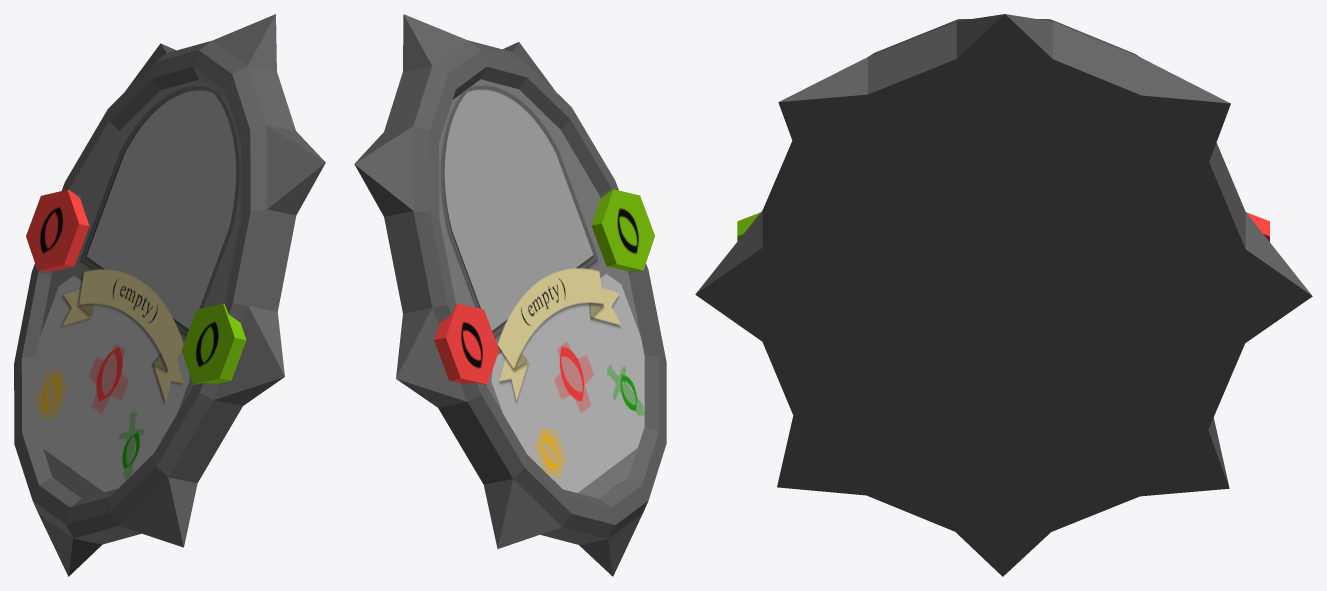
The model's file is minion_frame_1.glb.
3 renders of one model, left to right at view 1: azimuth 30°, elevation 25°; view 2: azimuth 150°, elevation 25°; view 3: azimuth 270°, elevation 25°, orthographic. The views are drawn at different scales.
Parts seen in each view (by area): view 1: frame, life_label, attack_label; view 2: frame, attack_label, life_label; view 3: frame.
Boxes of the visible parts, <box> form: frame: <box>14,14,325,576</box>; life_label: <box>26,189,89,271</box>; attack_label: <box>181,303,246,384</box>; frame: <box>354,14,666,576</box>; attack_label: <box>591,189,654,271</box>; life_label: <box>434,303,498,384</box>; frame: <box>695,14,1312,576</box>.
Bounding box in the file's own units: 0.2997 × 0.6441 × 0.5132.
6 materials, 3 textured.
